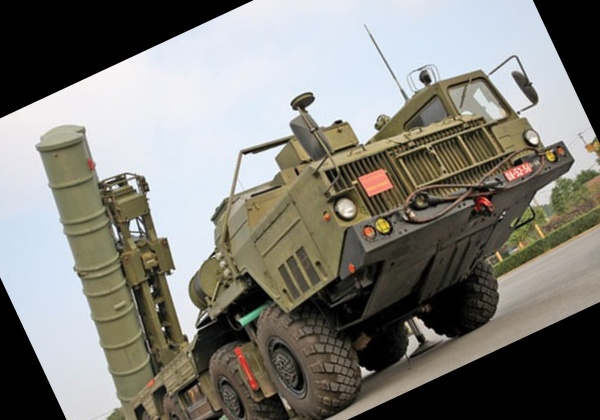plate: (501, 155, 536, 184)
